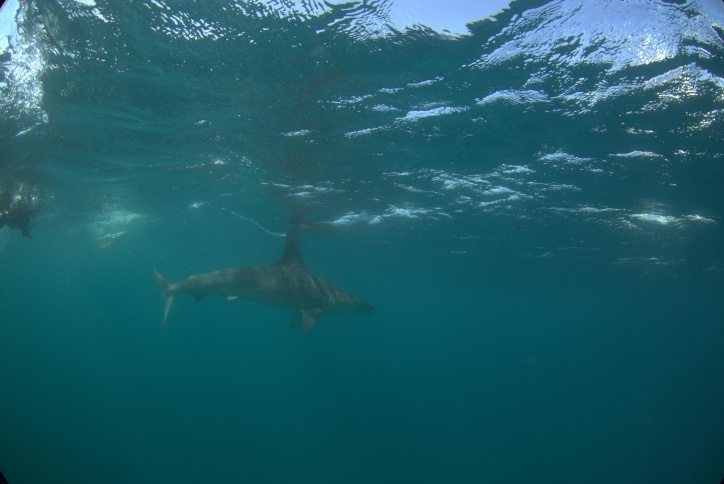Hammer: (10, 154, 198, 245)
